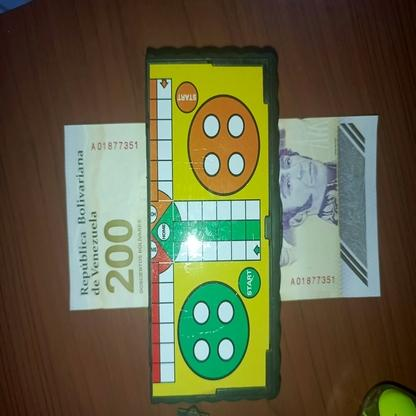two_hundred-front-vef: (64, 115, 382, 310)
